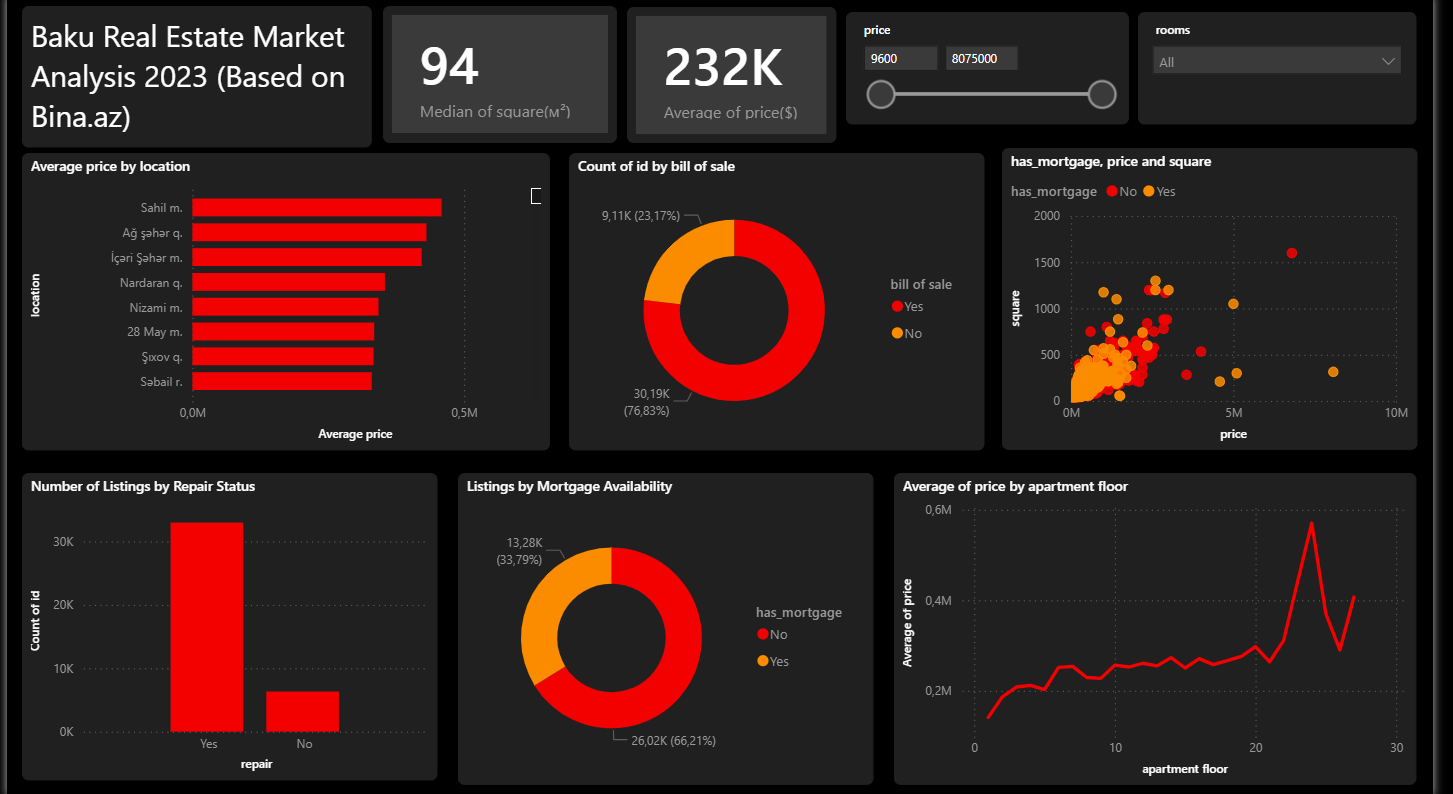

The dashboard page shown, as its layout file describes it:
{"tool":"powerbi","page":{"name":"Page 1","canvas":[1280,720],"ordinal":0},"visuals":[{"type":"barChart","fields":{"Category":["BakuApartmentData_202512222010.location"],"Y":["Avg(BakuApartmentData_202512222010.price)"]},"box":[13.6,142,473.7,266.5],"z":0},{"type":"donutChart","fields":{"Category":["BakuApartmentData_202512222010.bill_of_sale"],"Y":["Count(BakuApartmentData_202512222010.id)"]},"box":[504.5,141.8,372.6,266.6],"z":1000},{"type":"cardVisual","fields":{"Data":["Median(BakuApartmentData_202512222010.square)"]},"box":[337.6,9.9,210.1,123],"z":2000},{"type":"donutChart","title":"Listings by Mortgage Availability","fields":{"Category":["BakuApartmentData_202512222010.has_mortgage"],"Y":["CountNonNull(BakuApartmentData_202512222010.id)"]},"box":[404.6,428.9,372.5,280.1],"z":3000},{"type":"lineChart","fields":{"Category":["BakuApartmentData_202512222010.apt_floor"],"Y":["Avg(BakuApartmentData_202512222010.price)"]},"box":[796.6,428.9,468.8,280.1],"z":4000},{"type":"scatterChart","fields":{"X":["BakuApartmentData_202512222010.price"],"Y":["BakuApartmentData_202512222010.square"],"Series":["BakuApartmentData_202512222010.has_mortgage"]},"box":[893.3,137.4,372.6,271.1],"z":5000},{"type":"columnChart","title":"Number of Listings by Repair Status","fields":{"Category":["BakuApartmentData_202512222010.repair"],"Y":["CountNonNull(BakuApartmentData_202512222010.id)"]},"box":[13.6,428.9,373.5,276.2],"z":6000},{"type":"cardVisual","fields":{"Data":["Avg(BakuApartmentData_202512222010.price)"]},"box":[556.6,10.8,187.6,122.1],"z":7000},{"type":"slicer","fields":{"Values":["BakuApartmentData_202512222010.price"]},"box":[753.2,15.3,254.1,101.4],"z":8000},{"type":"slicer","fields":{"Values":["BakuApartmentData_202512222010.rooms"]},"box":[1015.4,15.6,250,101.2],"z":9000},{"type":"textbox","box":[13.5,9.9,314.2,127.5],"z":10000}]}

Visuals, with their boxes in screenshot pixels (x1, y1, x2, y2), scaled from the page's 1280x720 canvas onto the 1453x794 screenshot:
barChart - BakuApartmentData_202512222010.location x Avg(BakuApartmentData_202512222010.price): [x1=15, y1=157, x2=553, y2=450]
donutChart - BakuApartmentData_202512222010.bill_of_sale x Count(BakuApartmentData_202512222010.id): [x1=573, y1=156, x2=996, y2=450]
cardVisual - Median(BakuApartmentData_202512222010.square): [x1=383, y1=11, x2=622, y2=147]
"Listings by Mortgage Availability" donutChart: [x1=459, y1=473, x2=882, y2=782]
lineChart - BakuApartmentData_202512222010.apt_floor x Avg(BakuApartmentData_202512222010.price): [x1=904, y1=473, x2=1436, y2=782]
scatterChart - BakuApartmentData_202512222010.price x BakuApartmentData_202512222010.square: [x1=1014, y1=152, x2=1437, y2=450]
"Number of Listings by Repair Status" columnChart: [x1=15, y1=473, x2=439, y2=778]
cardVisual - Avg(BakuApartmentData_202512222010.price): [x1=632, y1=12, x2=845, y2=147]
slicer - BakuApartmentData_202512222010.price: [x1=855, y1=17, x2=1143, y2=129]
slicer - BakuApartmentData_202512222010.rooms: [x1=1153, y1=17, x2=1436, y2=129]
textbox: [x1=15, y1=11, x2=372, y2=152]
